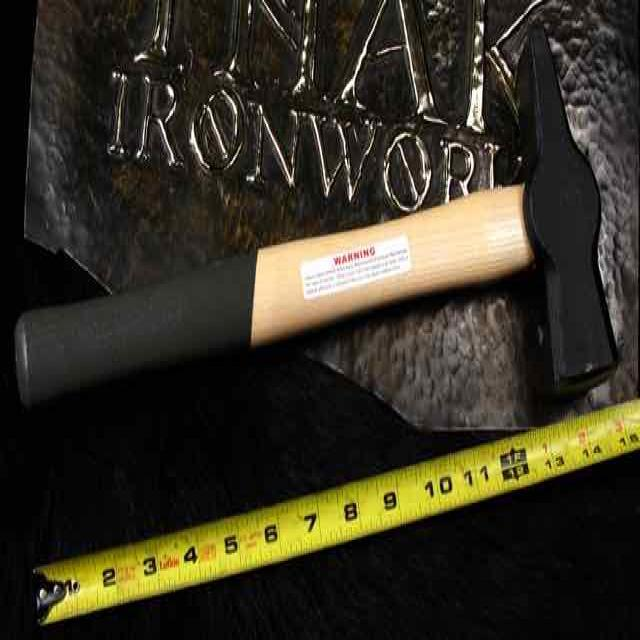hammer: (10, 12, 628, 446)
